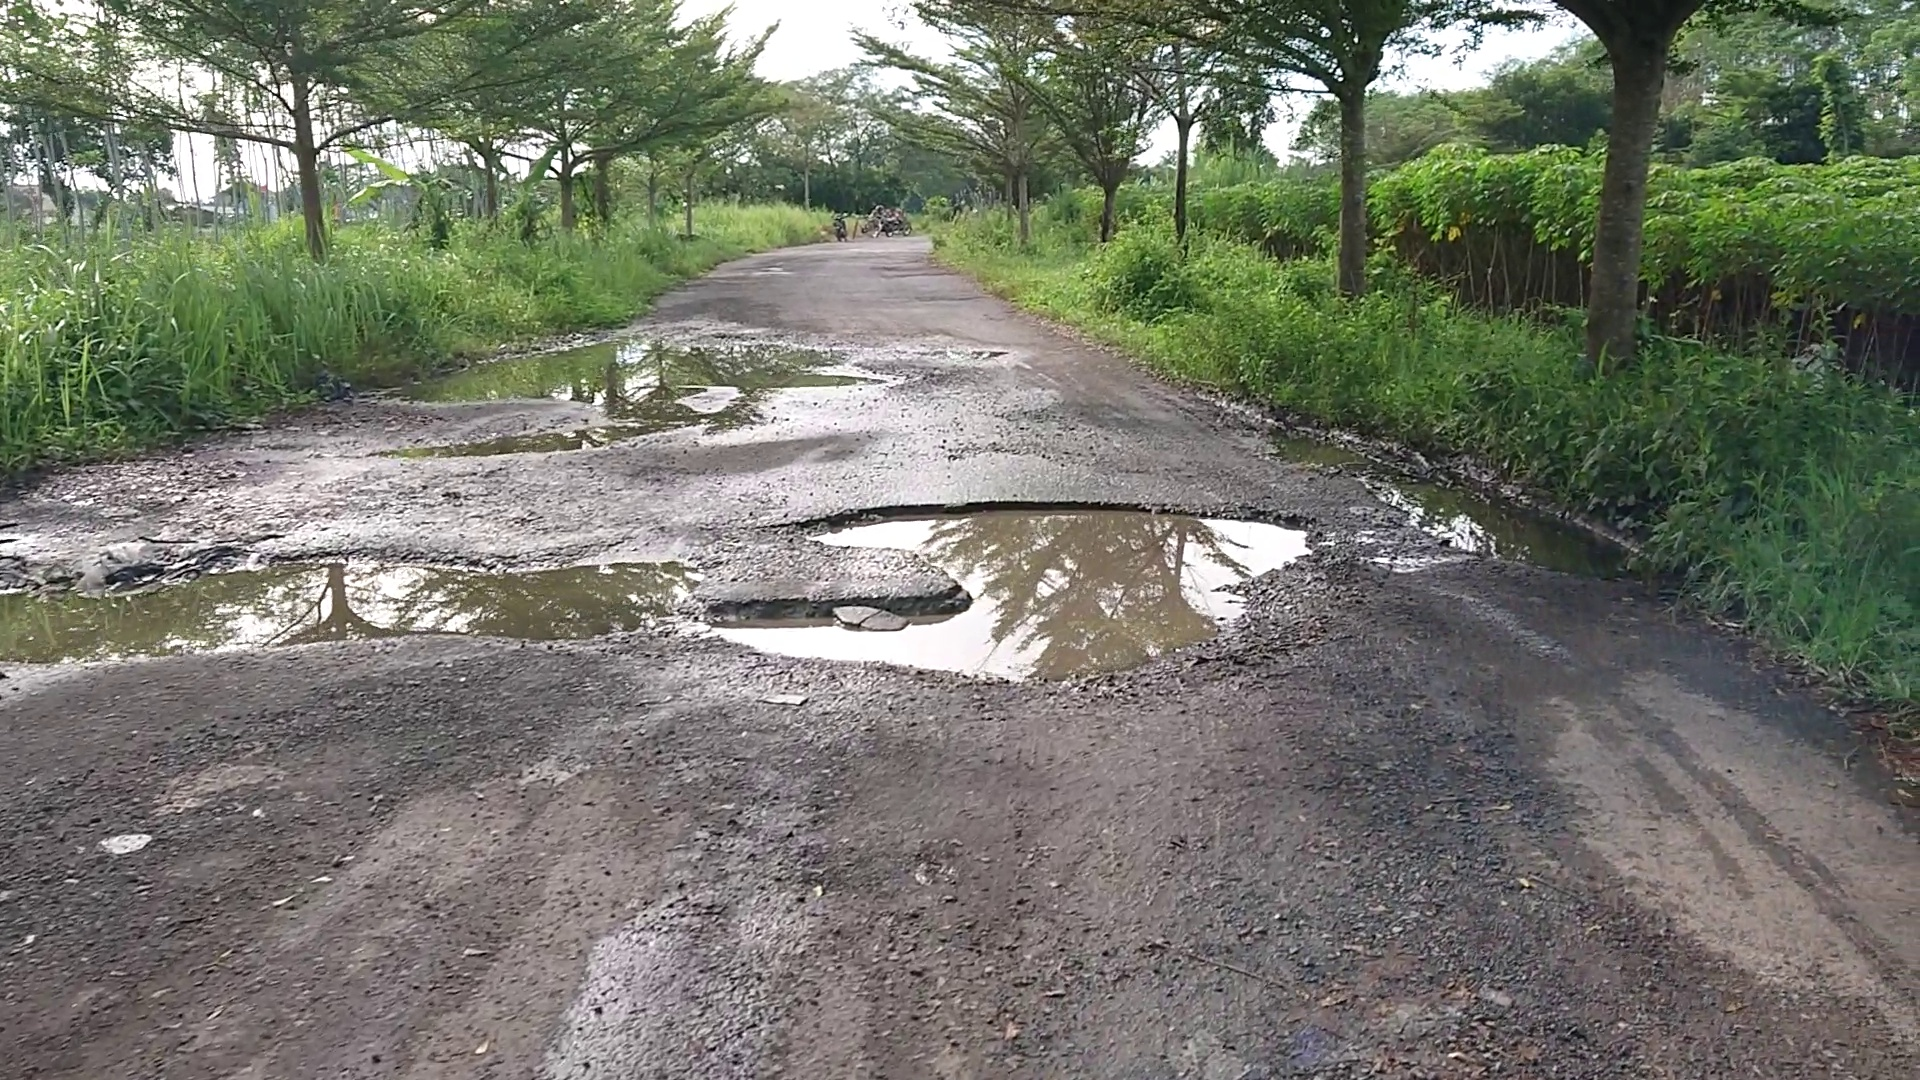Berlubang: (733, 495, 1358, 670), (7, 556, 704, 651), (418, 338, 886, 431)
